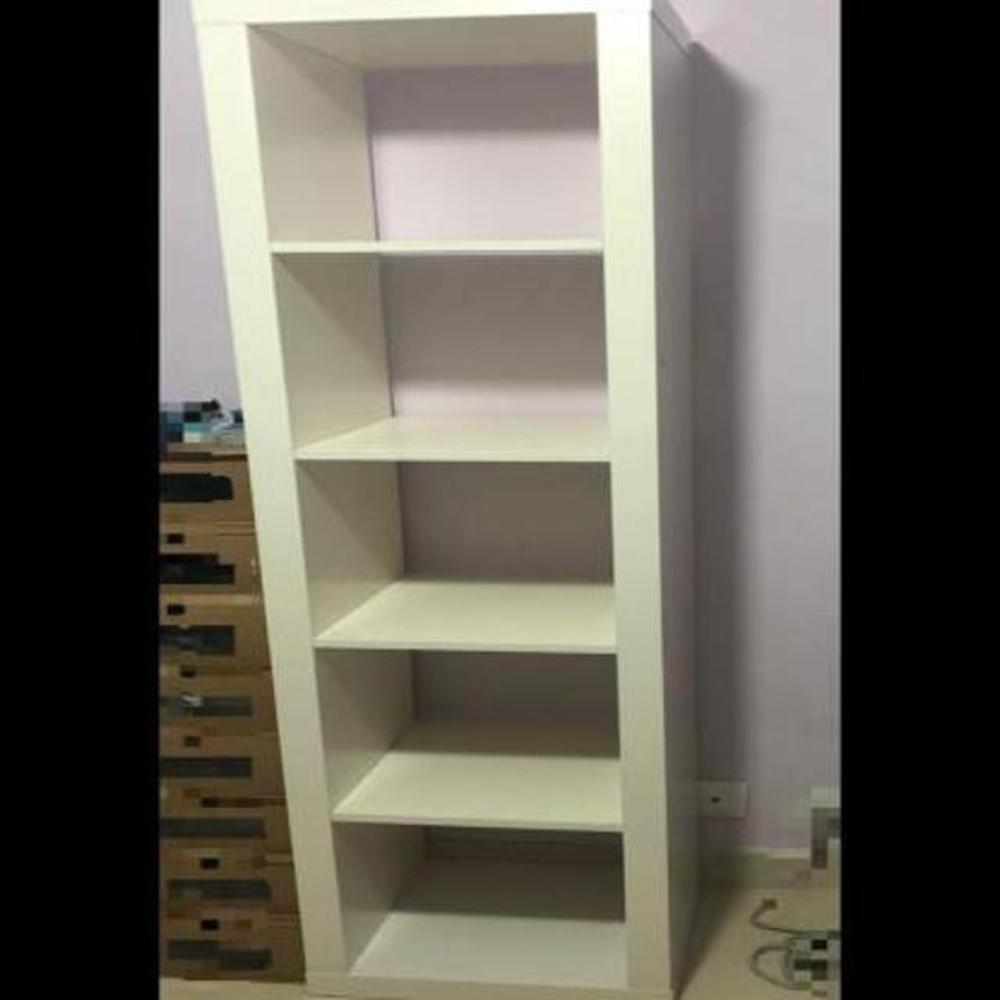lamp: (188, 1, 711, 999)
